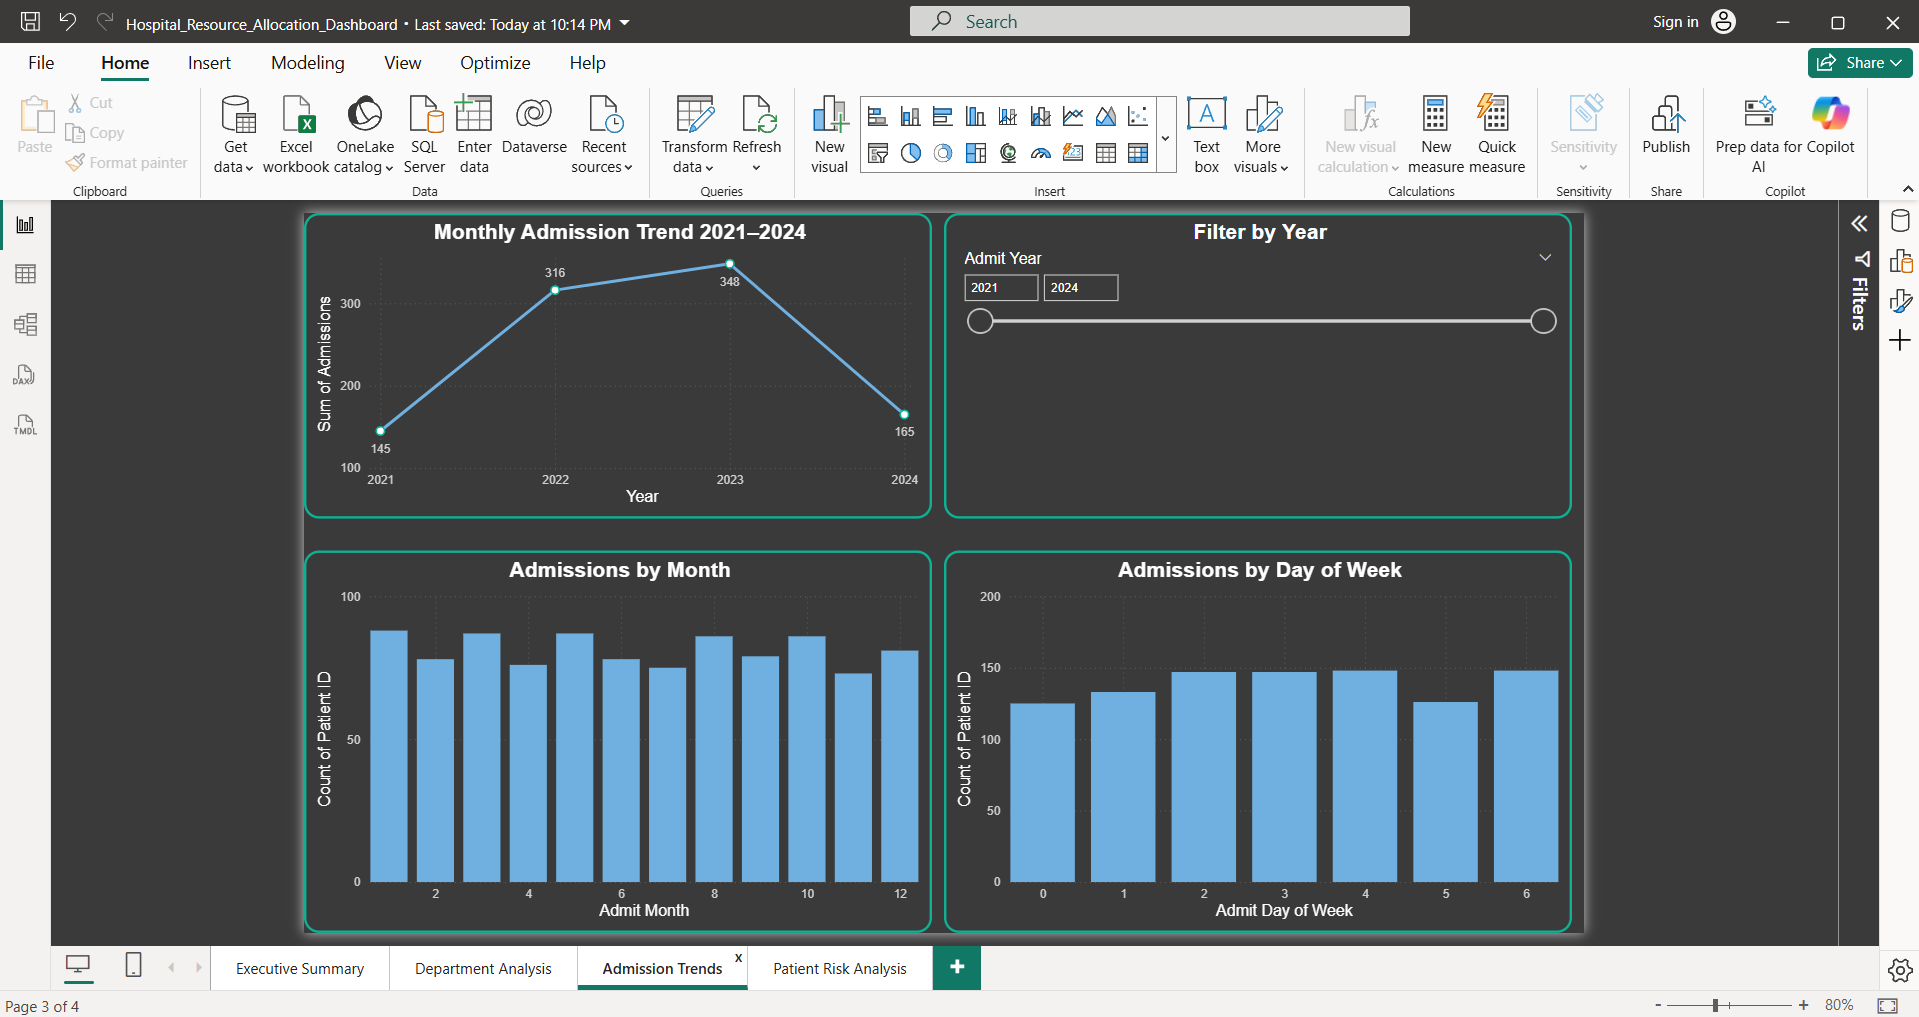

Layout of this report page (visuals, bound fields, positions):
{"tool":"powerbi","page":{"name":"Admission Trends","canvas":[1280,720],"ordinal":2},"visuals":[{"type":"lineChart","title":"Monthly Admission Trend 2021–2024","fields":{"Category":["Monthly Trend.Month.Variation.Date Hierarchy.Year","Monthly Trend.Month.Variation.Date Hierarchy.Quarter","Monthly Trend.Month.Variation.Date Hierarchy.Month","Monthly Trend.Month.Variation.Date Hierarchy.Day"],"Y":["Sum(Monthly Trend.Admissions)"]},"box":[0,0,627.6,305.9],"z":0},{"type":"clusteredColumnChart","title":"Admissions by Month","fields":{"Category":["Patients.Admit Month"],"Y":["CountNonNull(Patients.Patient ID)"]},"box":[0,337.6,627.6,382.3],"z":1},{"type":"clusteredColumnChart","title":"Admissions by Day of Week","fields":{"Category":["Patients.Admit Day of Week"],"Y":["CountNonNull(Patients.Patient ID)"]},"box":[640.6,337.6,627.6,382.3],"z":2},{"type":"slicer","title":"Filter by Year","fields":{"Values":["Patients.Admit Year"]},"box":[640.6,0,627.6,305.9],"z":3}]}

Visuals, with their boxes on the page's 1280x720 design canvas (x1, y1, x2, y2). These are canvas units, not pixel positions in the 1919x1017 screenshot, which may show the page scaled, cropped or inside an application window:
"Monthly Admission Trend 2021–2024" lineChart: select_region(0, 0, 628, 306)
"Admissions by Month" clusteredColumnChart: select_region(0, 338, 628, 720)
"Admissions by Day of Week" clusteredColumnChart: select_region(641, 338, 1268, 720)
"Filter by Year" slicer: select_region(641, 0, 1268, 306)
